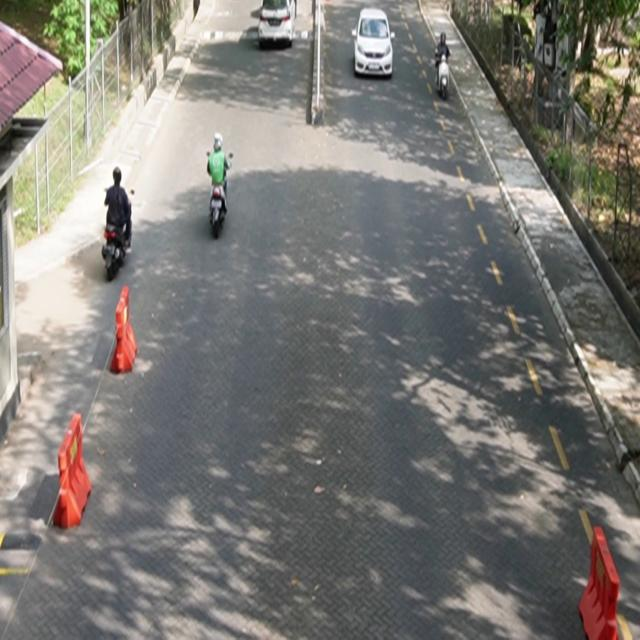car: (352, 8, 396, 79), (259, 1, 298, 50)
